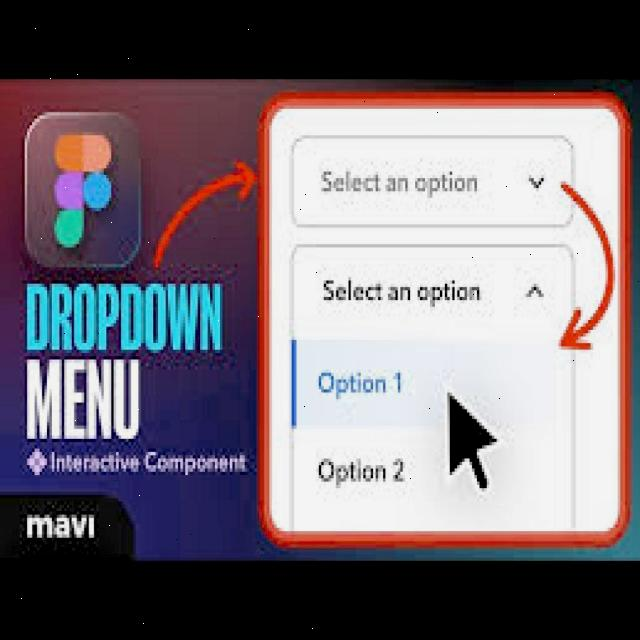dropdownMenu: (292, 134, 574, 532)
menuItem: (303, 348, 420, 414), (306, 442, 416, 496)
